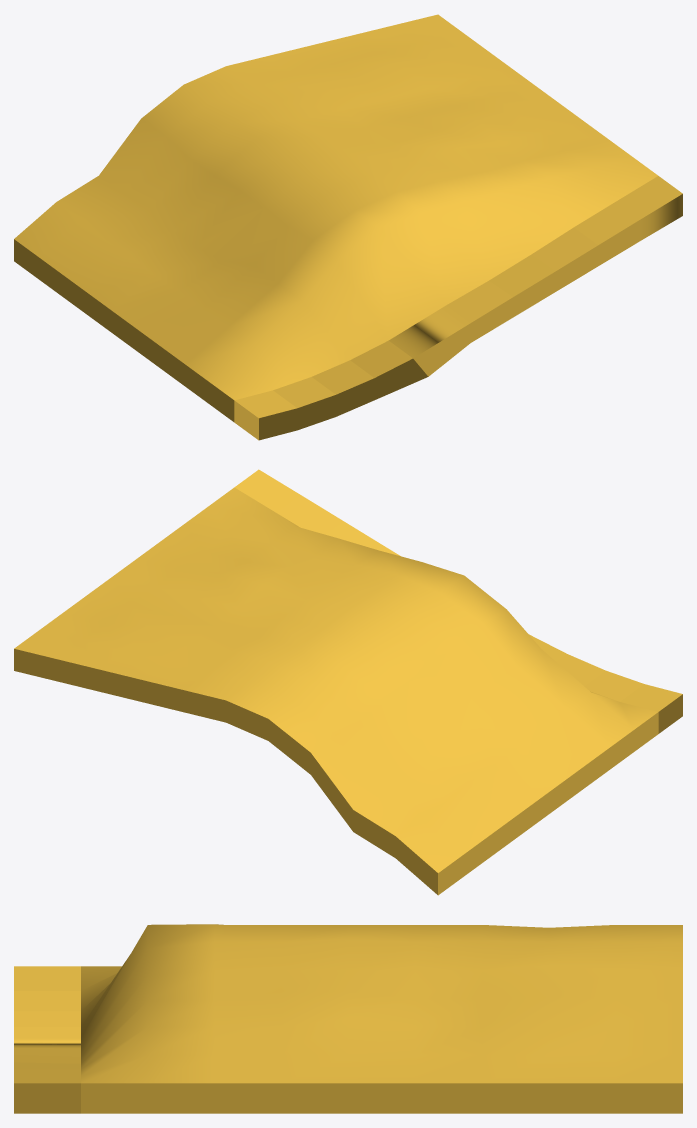
The model's file is Flach - Unten - Hügle b - x.fbx.
3 views of the same model, one above another, from view 1: azimuth 30°, elevation 25°; view 2: azimuth 150°, elevation 25°; view 3: azimuth 270°, elevation 25° (orthographic). The views are drawn at different scales.
Visible parts, largest first — view 1: Flach - Unten - Hügle b - x; view 2: Flach - Unten - Hügle b - x; view 3: Flach - Unten - Hügle b - x.
Boxes of the visible parts, box(x1,y1,x2,y2) form: Flach - Unten - Hügle b - x: box(14, 14, 682, 440); Flach - Unten - Hügle b - x: box(14, 469, 682, 895); Flach - Unten - Hügle b - x: box(14, 924, 682, 1113).
Bounding box in the file's own units: 394 × 133 × 394.
